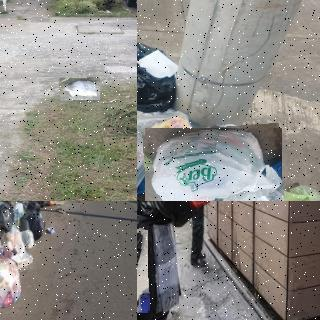Garbage: (143, 125, 283, 201), (137, 100, 191, 201), (137, 42, 182, 116), (137, 201, 192, 227), (0, 254, 21, 309), (137, 229, 149, 313), (60, 77, 100, 101), (27, 209, 44, 237)
